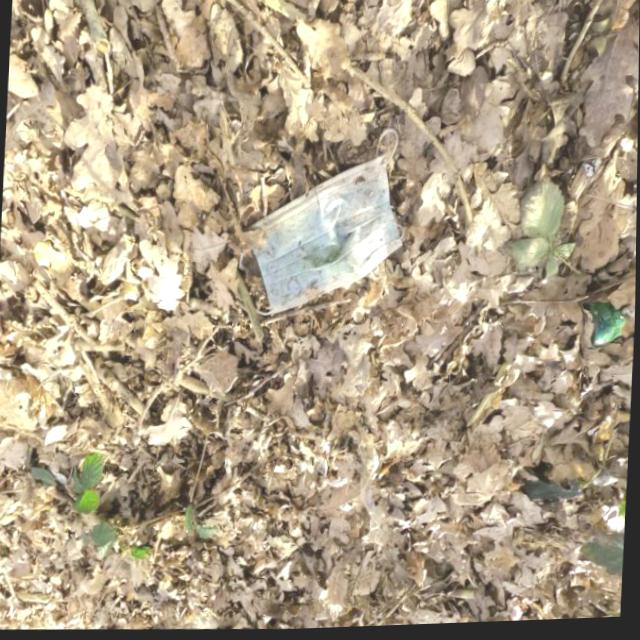Mask: (233, 150, 405, 328)
